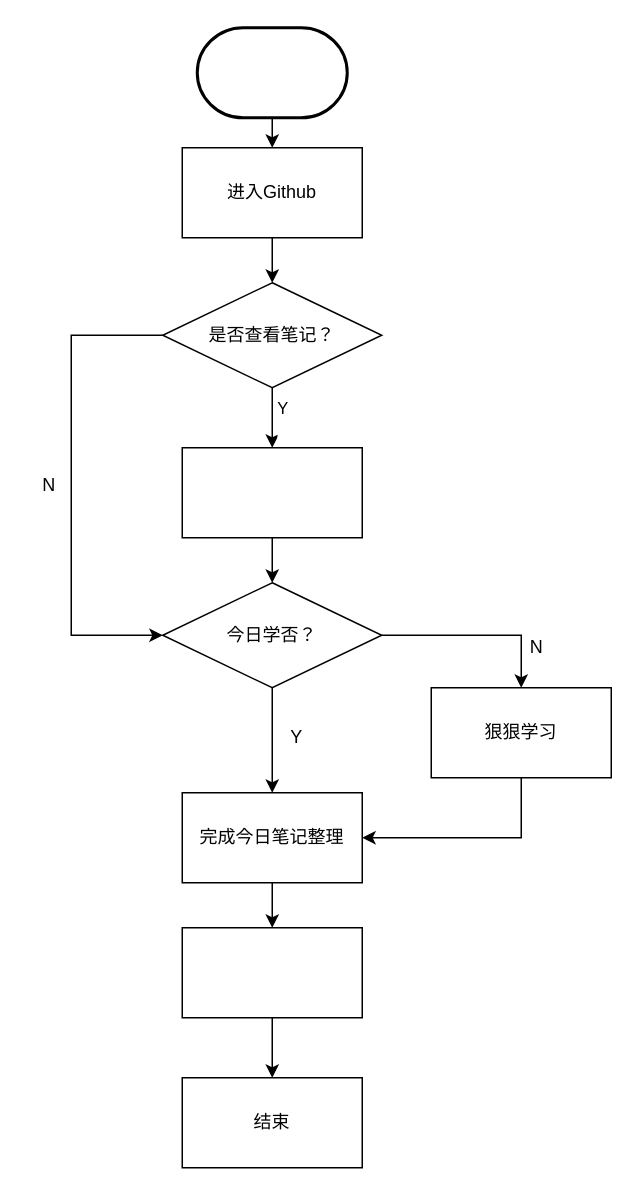
The diagram is 638 pixels wide and 1194 high, and some of its shapes have lost their labels. Each missing label, with the centre of its shape:
今天是愉快の一天: the point at 271,972
开始: the point at 271,72
观摩学习: the point at 271,492
